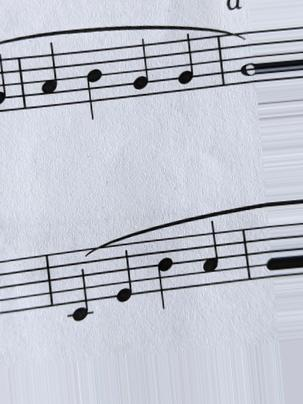note: (61, 251, 100, 323), (169, 33, 205, 98), (192, 219, 225, 285), (150, 238, 179, 312), (125, 35, 156, 99), (33, 40, 62, 104), (111, 242, 139, 306), (82, 49, 105, 121)
